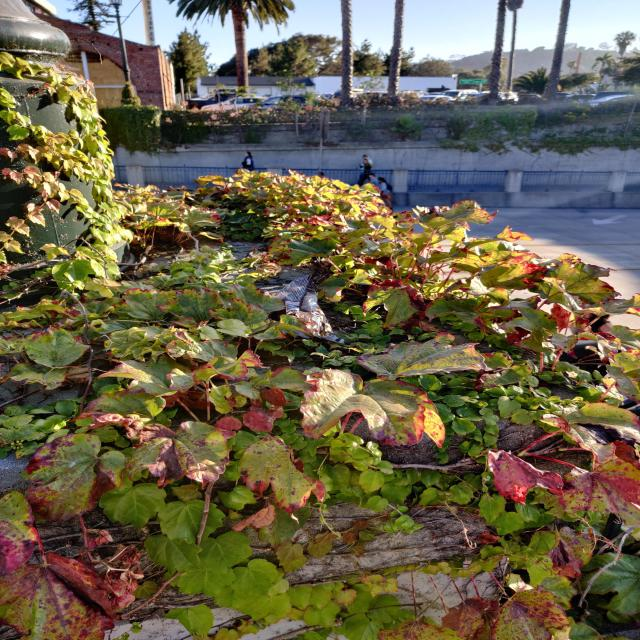litter: (274, 274, 344, 344)
